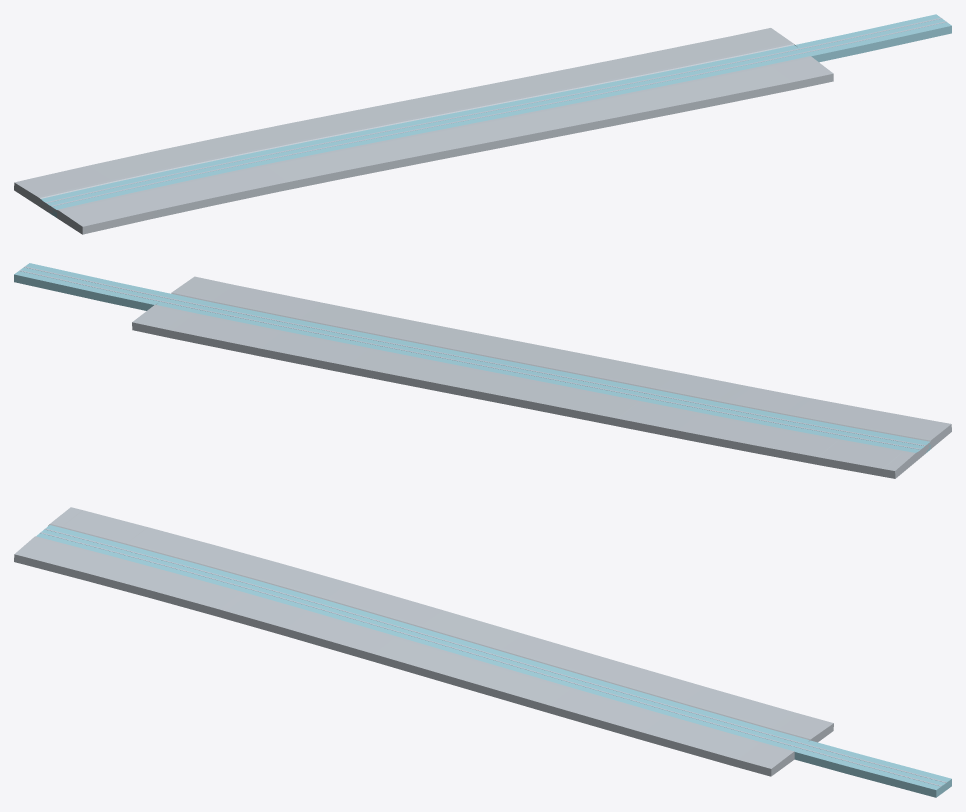
File: Road_2_-1_0.fbx
3 views of the same model, one above another, from view 1: azimuth 30°, elevation 25°; view 2: azimuth 150°, elevation 25°; view 3: azimuth 330°, elevation 25° (orthographic).
Visible parts, largest first — view 1: Road_2_-1_0; view 2: Road_2_-1_0; view 3: Road_2_-1_0.
Boxes of the visible parts, left/top/right/bottom form: Road_2_-1_0: left=14, top=14, right=951, bottom=234; Road_2_-1_0: left=14, top=263, right=951, bottom=478; Road_2_-1_0: left=14, top=507, right=951, bottom=797.
Size of the model in its own units: 26595 by 1294 by 3391.
